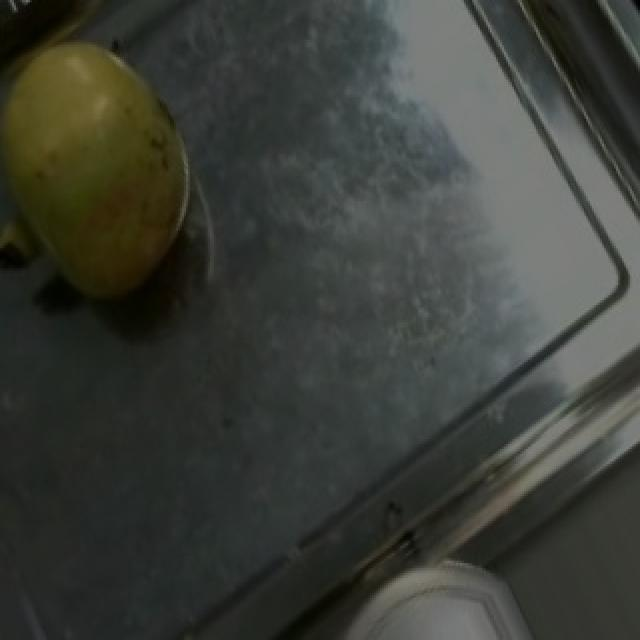fruit: (0, 0, 218, 270), (340, 541, 568, 640)
